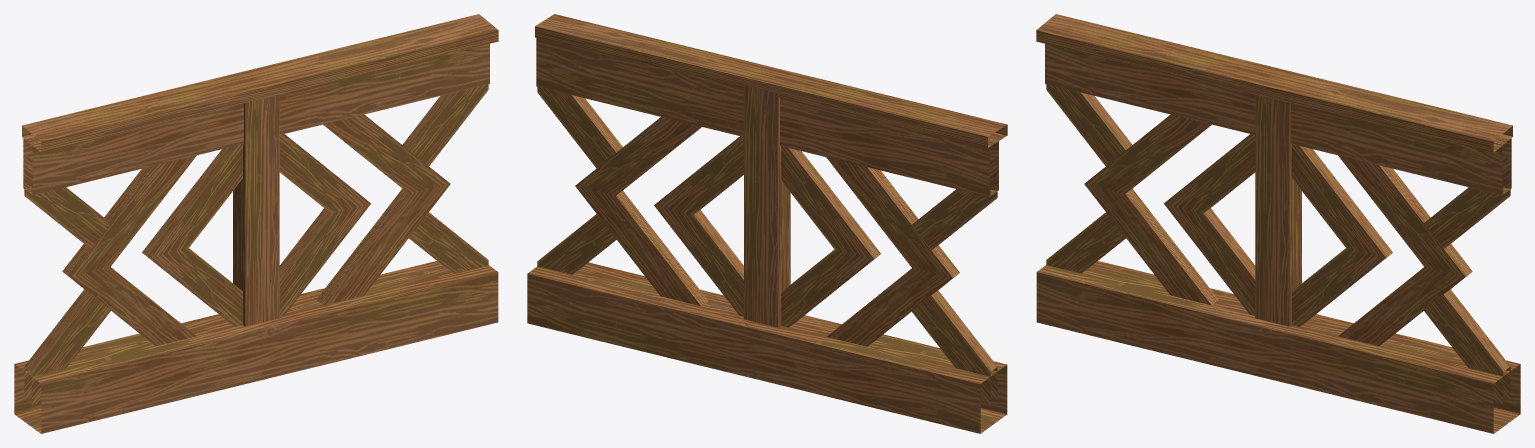
The model's file is kit.glb.
3 views of the same model, side by side, from view 1: azimuth 30°, elevation 25°; view 2: azimuth 150°, elevation 25°; view 3: azimuth 330°, elevation 25° (orthographic).
Visible parts, largest first — view 1: Balcony_Cross_Straight; view 2: Balcony_Cross_Straight; view 3: Balcony_Cross_Straight.
Boxes of the visible parts, x1,y1,x2,y2 form: Balcony_Cross_Straight: [14, 14, 498, 433]; Balcony_Cross_Straight: [527, 14, 1007, 433]; Balcony_Cross_Straight: [1036, 14, 1520, 433].
Bounding box in the file's own units: 2 × 1.23 × 0.2063.
Materials: 1 (1 with a texture image).
